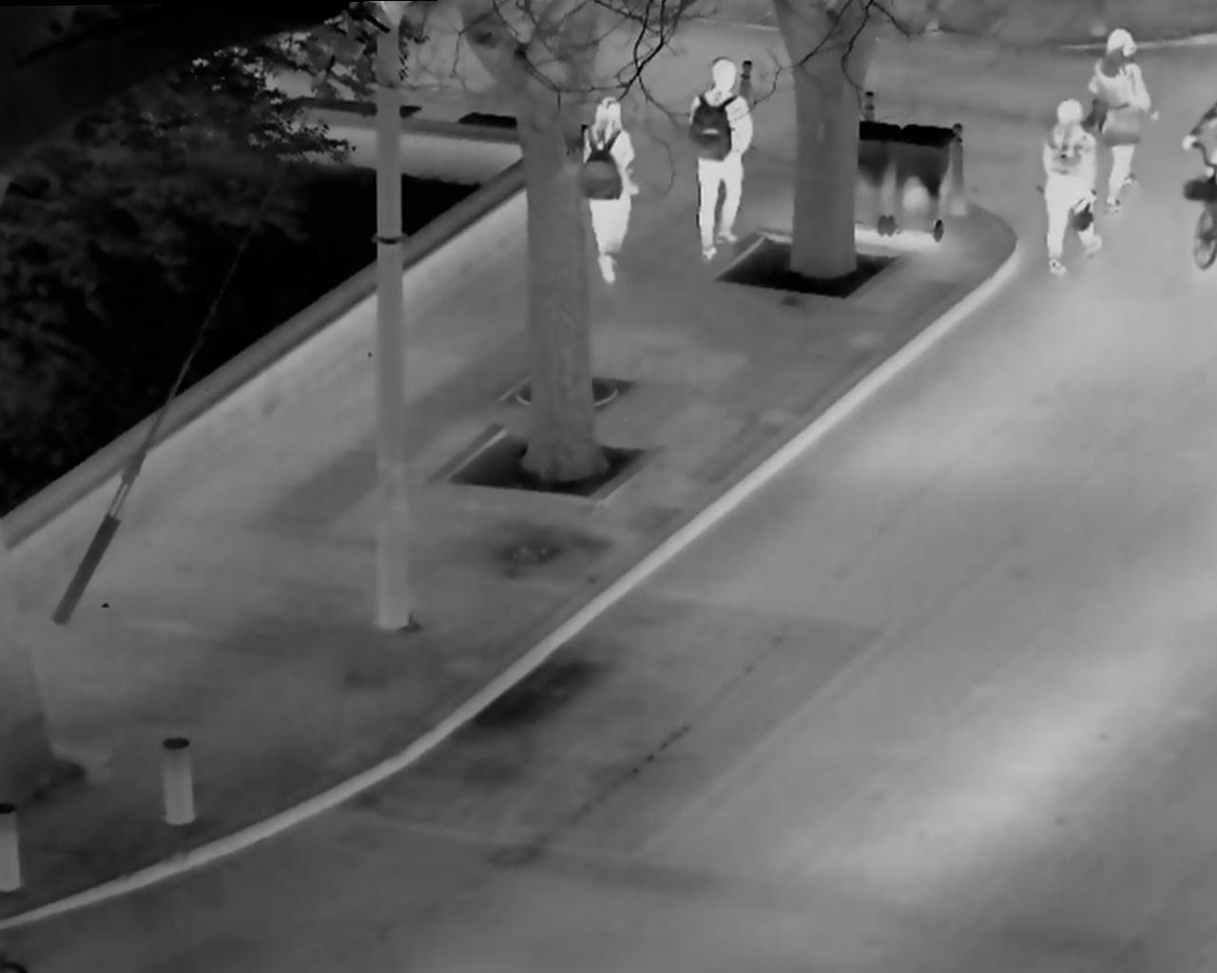person: (682, 46, 763, 268), (571, 77, 647, 294), (1027, 92, 1109, 286), (1090, 19, 1161, 220)
